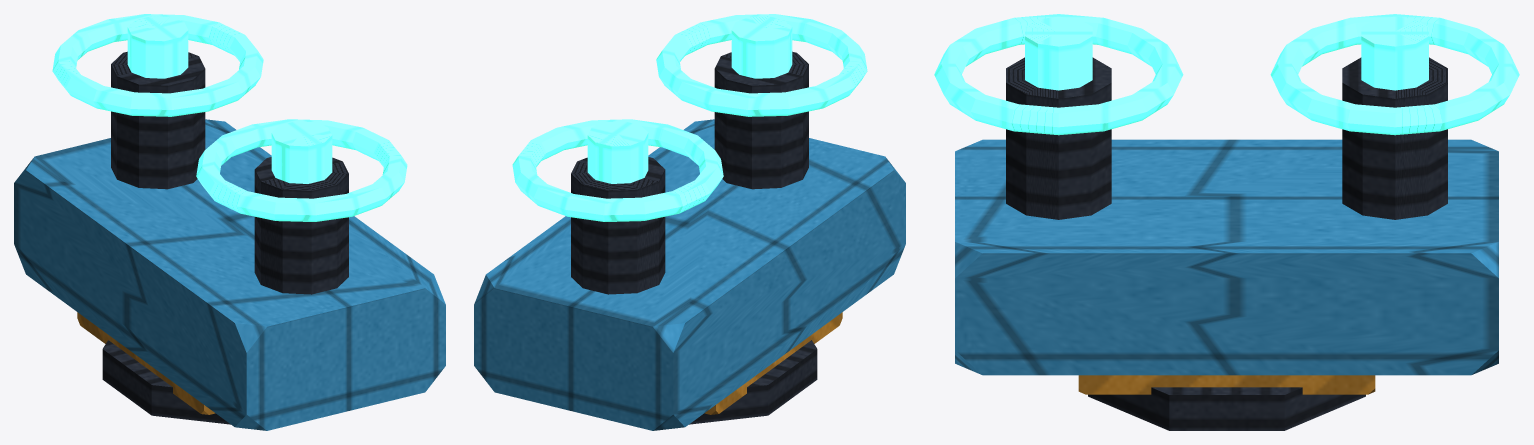
File: eq_wide_collector.glb
3 views of the same model, side by side, from view 1: azimuth 30°, elevation 25°; view 2: azimuth 150°, elevation 25°; view 3: azimuth 270°, elevation 25° (orthographic). The views are drawn at different scales.
Parts seen in each view (by area): view 1: eq_wide_collector; view 2: eq_wide_collector; view 3: eq_wide_collector.
Boxes of the visible parts, bbox=[...] form: eq_wide_collector: bbox=[14, 14, 445, 430]; eq_wide_collector: bbox=[474, 14, 905, 430]; eq_wide_collector: bbox=[934, 14, 1519, 430].
Bounding box in the file's own units: 1.4 × 1.9 × 2.96.
1 material, 1 textured.
